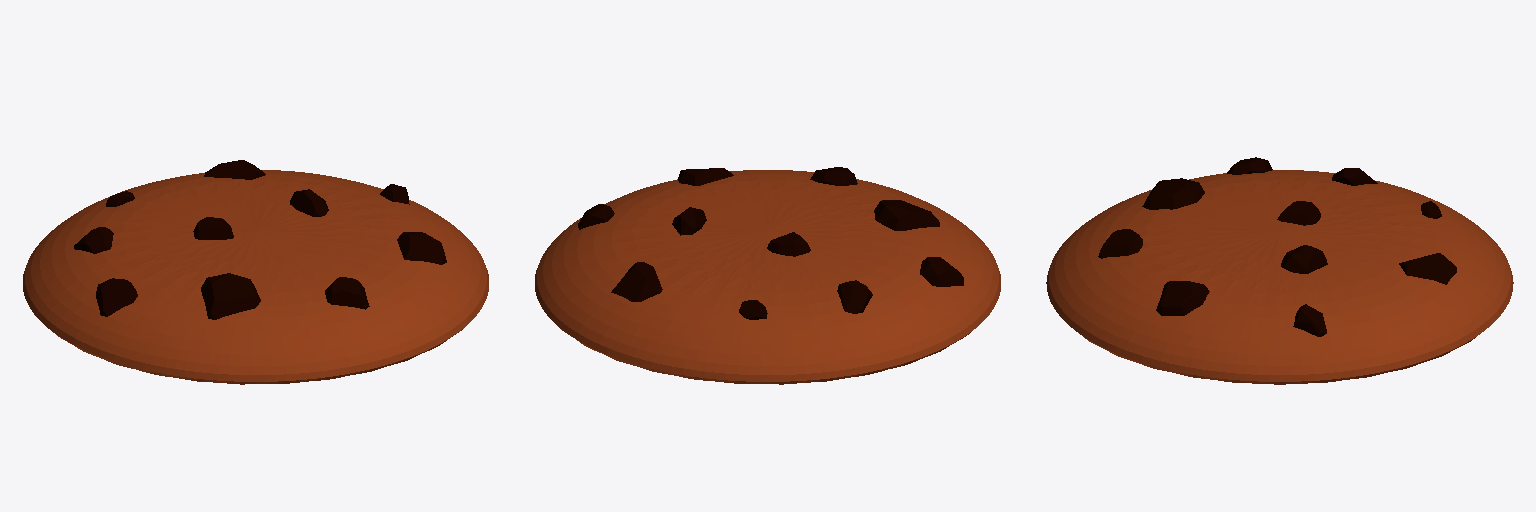
The model's file is cookie.obj.
3 renders of one model, left to right at view 1: azimuth 30°, elevation 25°; view 2: azimuth 150°, elevation 25°; view 3: azimuth 270°, elevation 25°, orthographic.
Parts seen in each view (by area): view 1: Circle, Cube.008, Cube, Cube.009, Cube.005, Cube.007, Cube.004, Cube.002, Cube.003; view 2: Circle, Cube.008, Cube.007, Cube.009, Cube.003, Cube.004, Cube, Cube.002, Cube.005, Cube.001; view 3: Circle, Cube.008, Cube, Cube.007, Cube.002, Cube.005, Cube.004, Cube.001, Cube.009, Cube.003.
Boxes of the visible parts, <box> form: Circle: <box>23,170,488,384</box>; Cube.008: <box>201,273,260,319</box>; Cube: <box>397,232,446,264</box>; Cube.009: <box>96,278,137,316</box>; Cube.005: <box>325,277,369,309</box>; Cube.007: <box>204,160,265,179</box>; Cube.004: <box>193,217,233,239</box>; Cube.002: <box>290,189,328,216</box>; Cube.003: <box>74,227,113,253</box>; Circle: <box>535,170,1000,384</box>; Cube.008: <box>874,200,939,230</box>; Cube.007: <box>611,262,662,301</box>; Cube.009: <box>920,257,963,286</box>; Cube.003: <box>837,280,872,313</box>; Cube.004: <box>767,232,810,256</box>; Cube: <box>678,168,733,185</box>; Cube.002: <box>672,207,706,235</box>; Cube.005: <box>810,167,857,185</box>; Cube.001: <box>578,204,614,229</box>; Circle: <box>1046,170,1513,384</box>; Cube.008: <box>1142,178,1204,209</box>; Cube: <box>1156,281,1209,315</box>; Cube.007: <box>1399,253,1456,284</box>; Cube.002: <box>1281,245,1327,273</box>; Cube.005: <box>1098,229,1142,258</box>; Cube.004: <box>1277,201,1320,225</box>; Cube.001: <box>1293,304,1326,336</box>; Cube.009: <box>1227,157,1272,174</box>; Cube.003: <box>1332,168,1377,185</box>.
Bounding box in the file's own units: 0.0712 × 0.0139 × 0.0712.